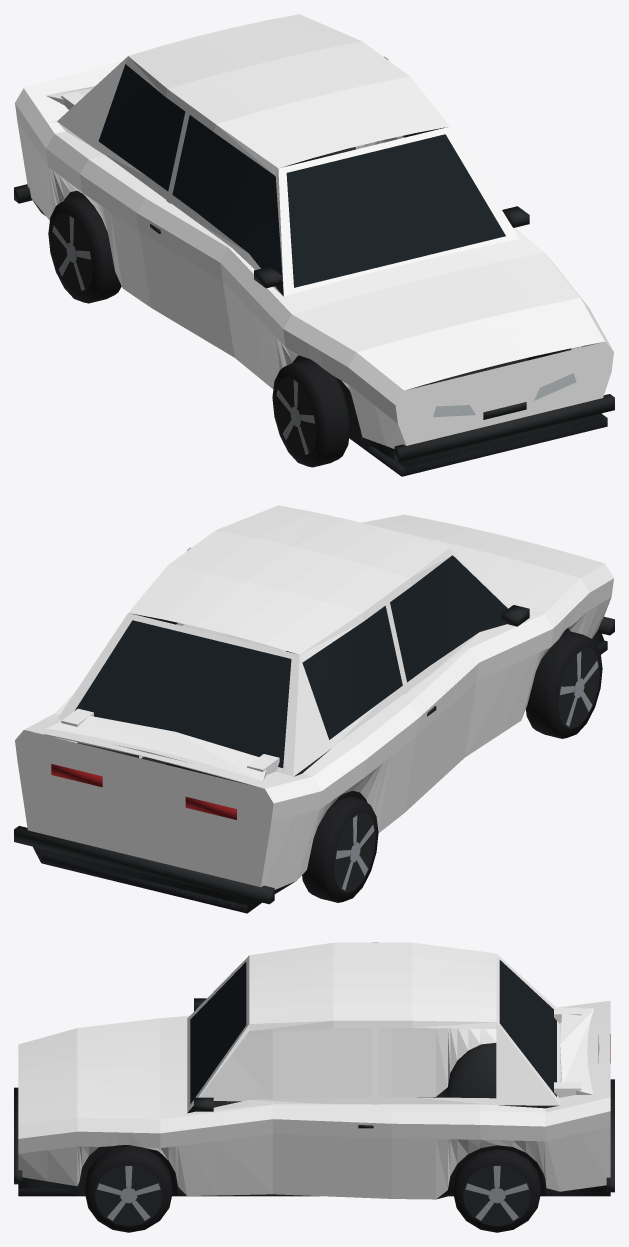
The model's file is hayase_vareta.glb.
3 renders of one model, top to bottom at view 1: azimuth 30°, elevation 25°; view 2: azimuth 150°, elevation 25°; view 3: azimuth 270°, elevation 25°, orthographic. The views are drawn at different scales.
Visible parts, largest first — view 1: Body_Paint, Body_Details, Mount_FrontLeft_Wheel_Details, Mount_RearLeft_Wheel_Details; view 2: Body_Paint, Body_Details, Mount_FrontLeft_Wheel_Details, Mount_RearLeft_Wheel_Details; view 3: Body_Paint, Body_Details, Mount_FrontRight_Wheel_Details, Mount_RearRight_Wheel_Details.
Part boxes in pixels (x1=…): Body_Paint: x1=15, y1=14, x2=613, y2=448; Body_Details: x1=14, y1=64, x2=614, y2=476; Mount_FrontLeft_Wheel_Details: x1=272, y1=359, x2=350, y2=467; Mount_RearLeft_Wheel_Details: x1=48, y1=196, x2=121, y2=303; Body_Paint: x1=15, y1=505, x2=613, y2=889; Body_Details: x1=14, y1=555, x2=614, y2=913; Mount_FrontLeft_Wheel_Details: x1=526, y1=630, x2=602, y2=738; Mount_RearLeft_Wheel_Details: x1=302, y1=796, x2=378, y2=902; Body_Paint: x1=18, y1=942, x2=610, y2=1199; Body_Details: x1=14, y1=960, x2=614, y2=1199; Mount_FrontRight_Wheel_Details: x1=85, y1=1145, x2=172, y2=1232; Mount_RearRight_Wheel_Details: x1=453, y1=1149, x2=540, y2=1232.
Size of the model in its own units: 1.8 by 1.45 by 3.96.
2 materials, 1 textured.
